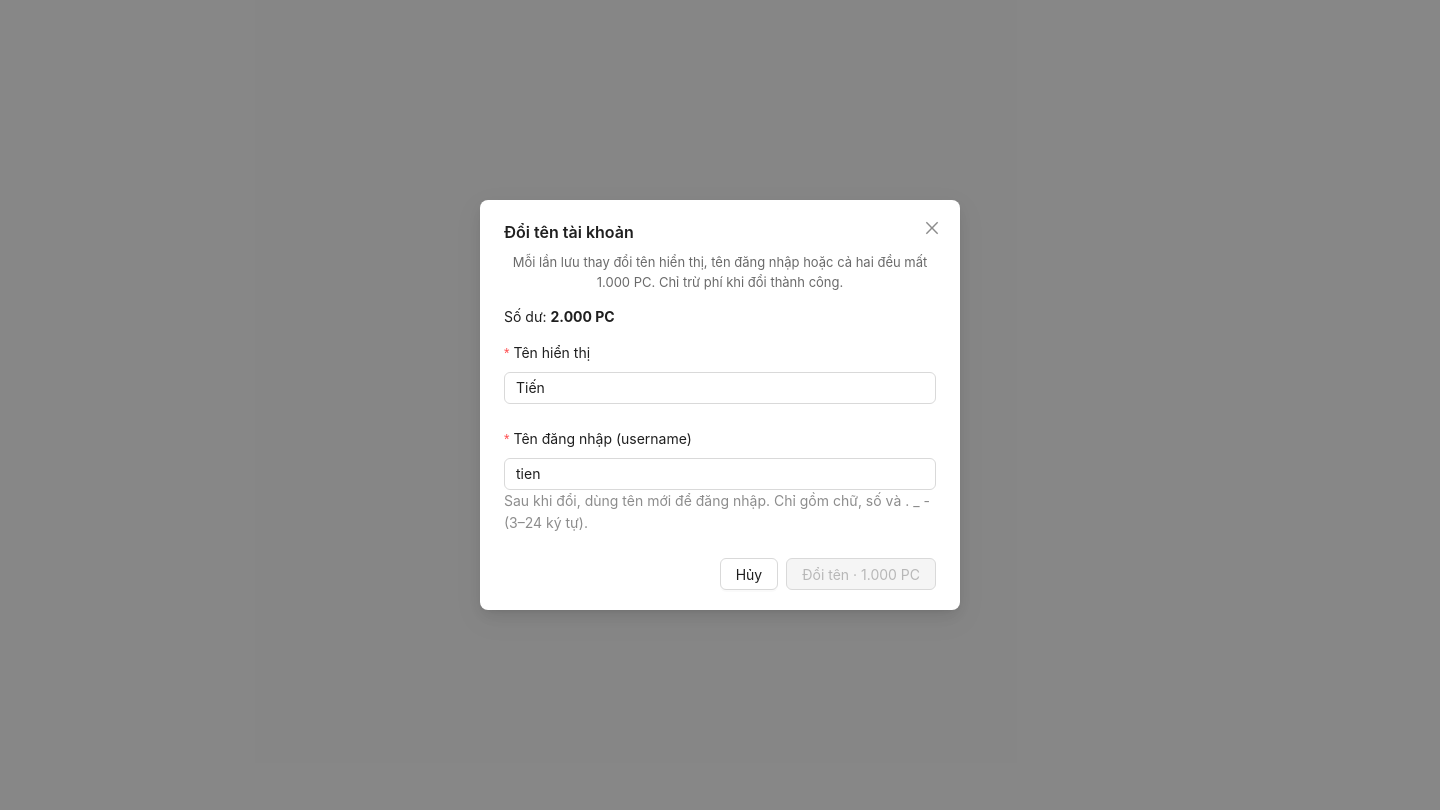
Test: Đổi tên tài khoản › giữ form và báo lỗi nếu server từ chối tên trùng
Replace the text in the field labelled "Tên đăng nhập (username)" with "other": coordinates (720, 474) [504,458,936,490]
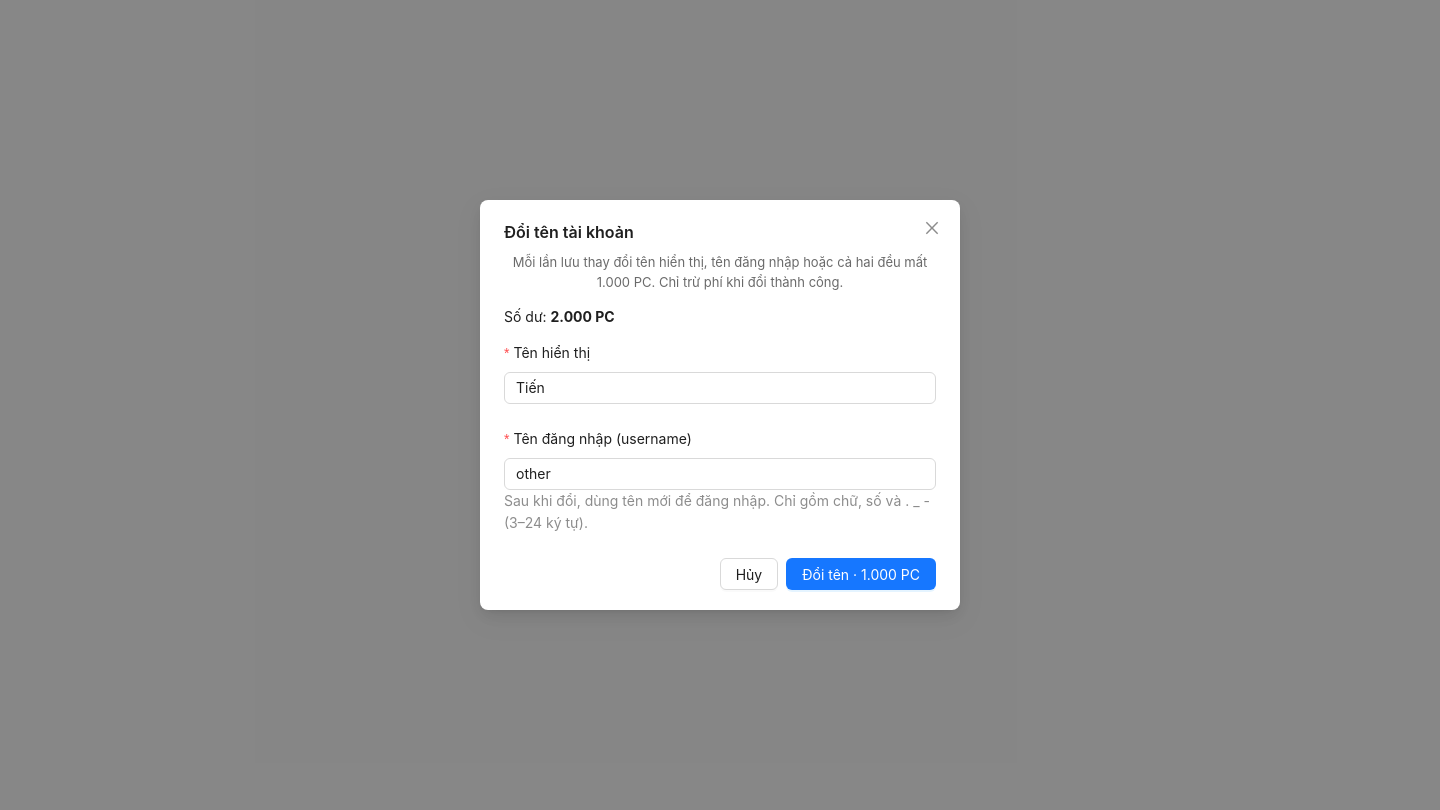
Click the button "Đổi tên · 1.000 PC": coordinates (861, 574) [786,558,936,590]
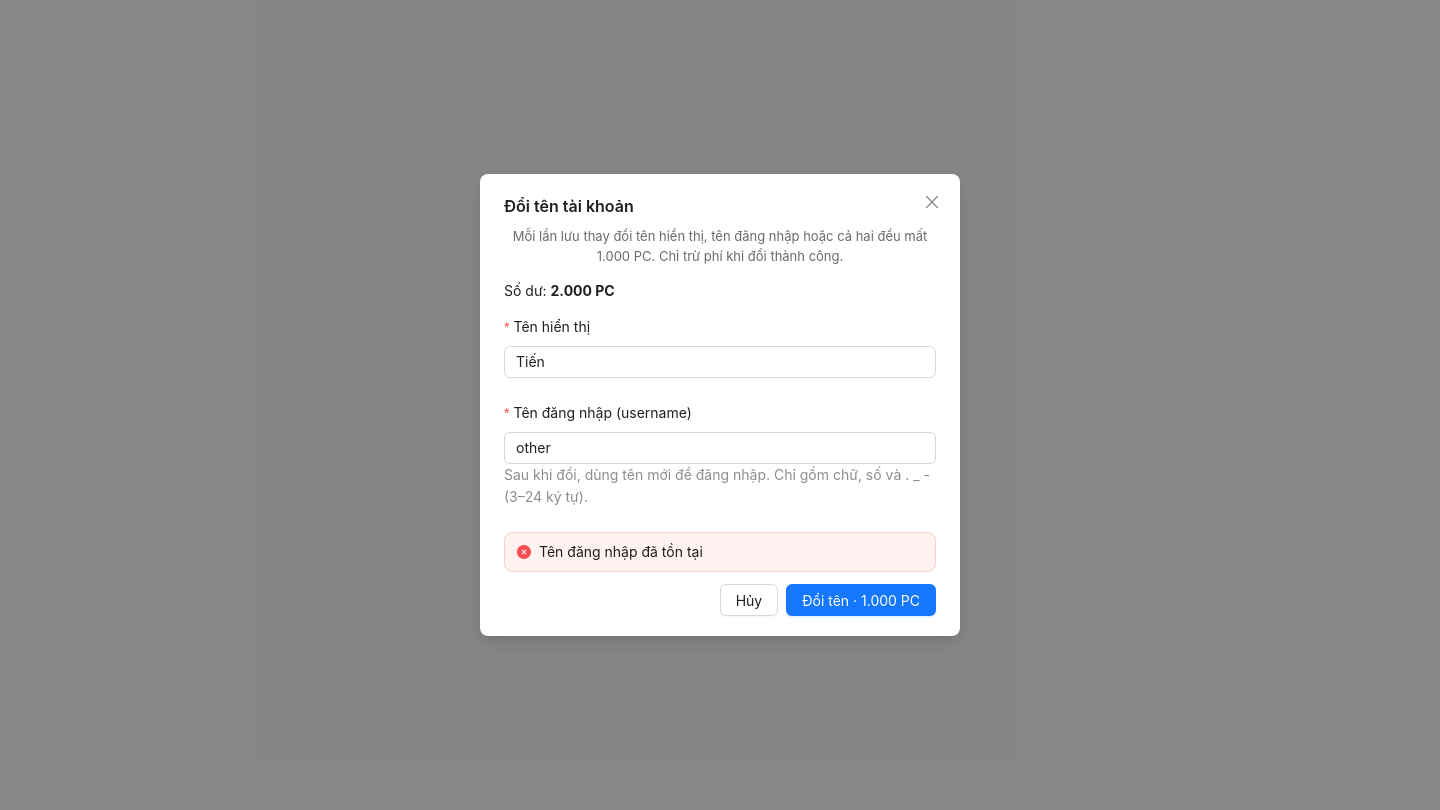
Expected: the text "Tên đăng nhập đã tồn tại" is shown, [539,543,703,560]
